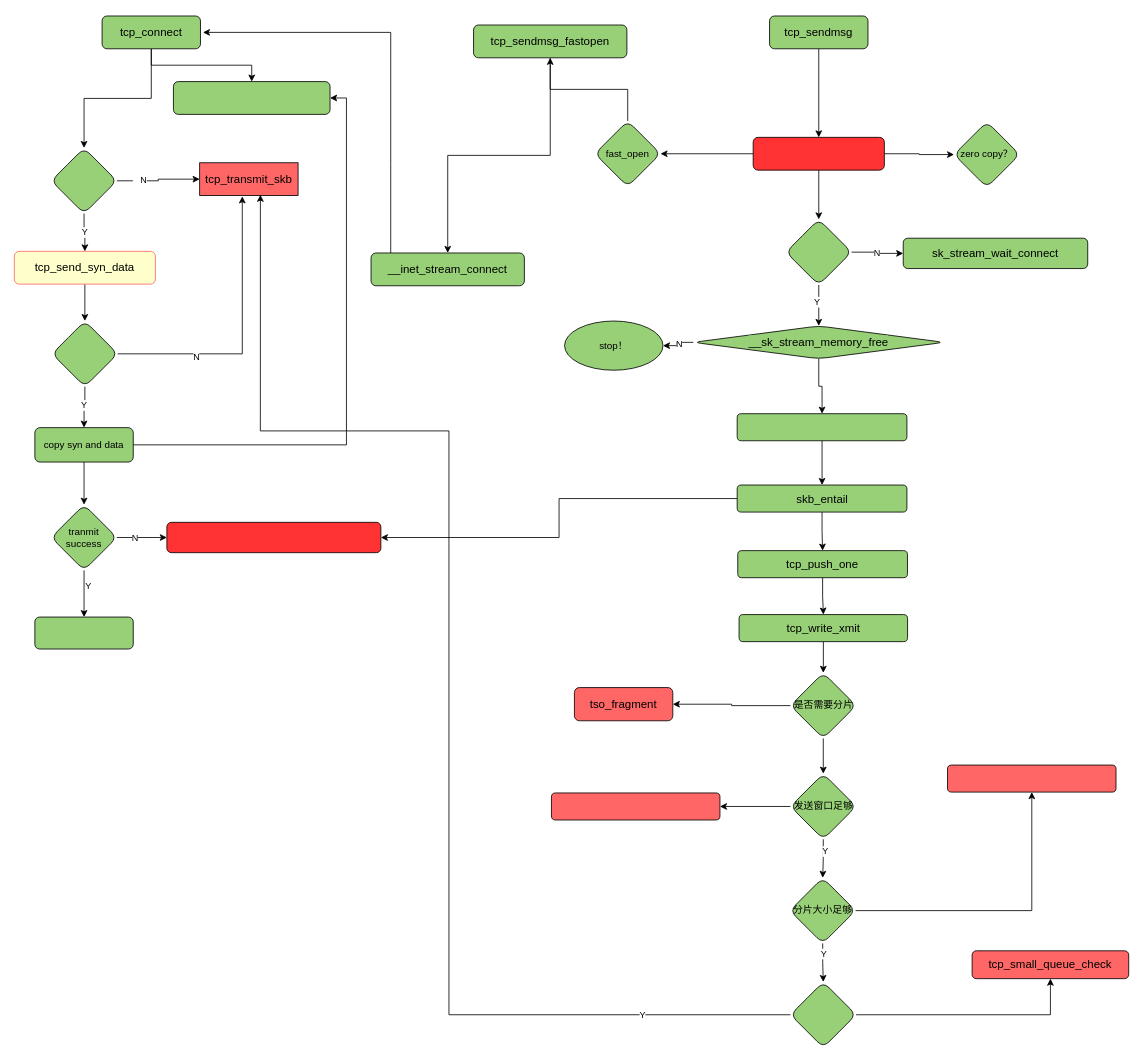
Some shapes in this 1143 by 1062 pixel diagram are drawn without their labels. The shapes that lost their labels are listed below. From the top down, each one's box as (x1, y1, x2, y2) in pixels, then its label:
(173, 81, 330, 114): tcp_rbtree_insert(syn)
(752, 137, 884, 170): tcp_sendmsg_locked
(50, 147, 117, 214): fast_open?
(785, 219, 852, 285): establish？
(51, 320, 118, 387): cookie found?
(736, 413, 907, 441): sk_stream_alloc_skb
(166, 522, 381, 553): __skb_queue_tail（ sk_write_queue ）
(34, 616, 133, 649): tcp_rbtree_insert
(947, 764, 1116, 792): tcp_nagle_test
(551, 792, 720, 820): tcp_snd_wnd_test
(790, 981, 856, 1048): 满足tsq
